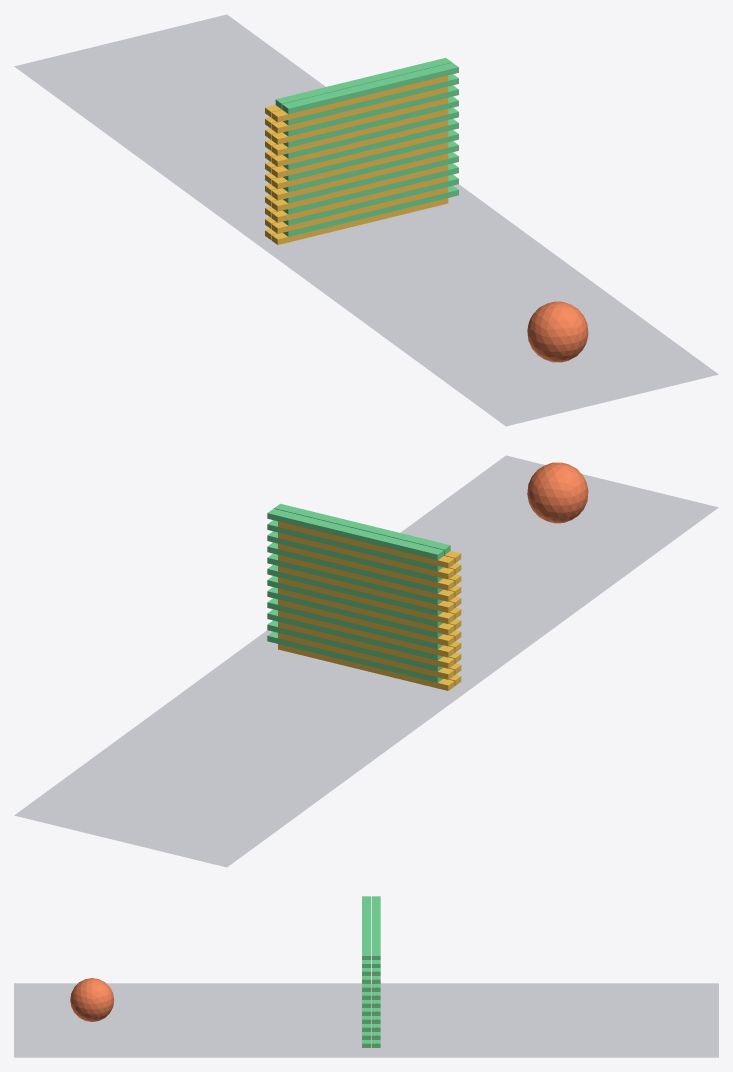
The model's file is RigidBody.glb.
3 views of the same model, one above another, from view 1: azimuth 30°, elevation 25°; view 2: azimuth 150°, elevation 25°; view 3: azimuth 270°, elevation 25° (orthographic). The views are drawn at different scales.
Visible parts, largest first — view 1: Ground.001, Icosphere.001; view 2: Ground.001, Icosphere.001; view 3: Ground.001, Icosphere.001.
Boxes of the visible parts, x1,y1,x2,y2 form: Ground.001: [14, 14, 718, 426]; Icosphere.001: [527, 301, 588, 362]; Ground.001: [14, 455, 718, 867]; Icosphere.001: [527, 462, 588, 523]; Ground.001: [14, 983, 718, 1057]; Icosphere.001: [70, 978, 114, 1021].
Bounding box in the file's own units: 8 × 4.8 × 32.
